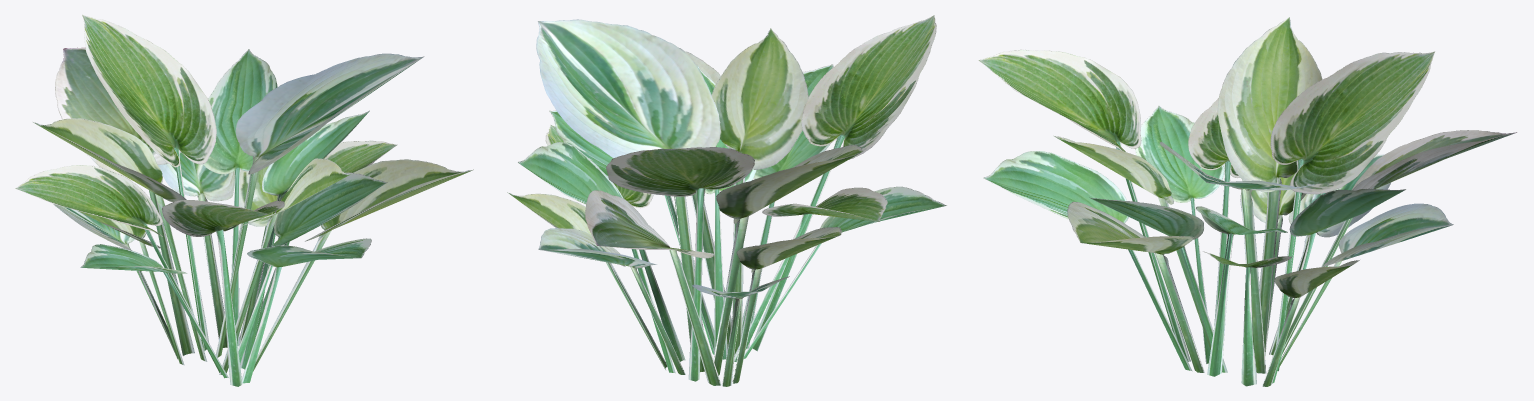
File: plant_small_wg_00S_wild.fbx
3 views of the same model, side by side, from view 1: azimuth 30°, elevation 25°; view 2: azimuth 150°, elevation 25°; view 3: azimuth 270°, elevation 25° (orthographic). The views are drawn at different scales.
Parts seen in each view (by area): view 1: plant_small_wg_00S_wild; view 2: plant_small_wg_00S_wild; view 3: plant_small_wg_00S_wild.
Part boxes in pixels (x1=…): plant_small_wg_00S_wild: x1=15, y1=15, x2=473, y2=386; plant_small_wg_00S_wild: x1=507, y1=15, x2=946, y2=386; plant_small_wg_00S_wild: x1=978, y1=17, x2=1516, y2=386.
Size of the model in its own units: 58.88 by 44.15 by 73.19.
